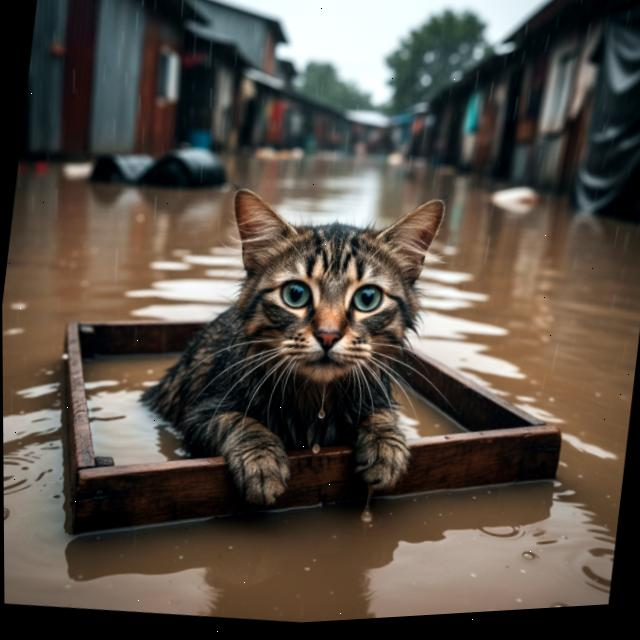cat: (137, 154, 478, 539)
